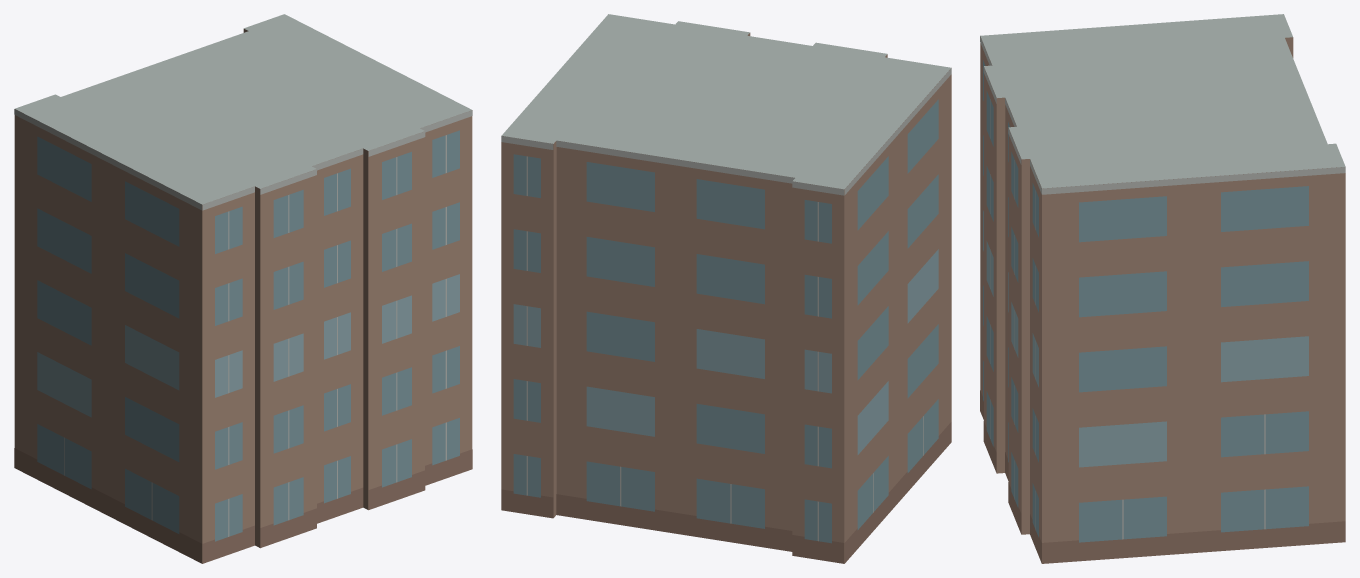
The model's file is survey-upis-32615624.glb.
3 renders of one model, left to right at view 1: azimuth 30°, elevation 25°; view 2: azimuth 150°, elevation 25°; view 3: azimuth 270°, elevation 25°, orthographic. The views are drawn at different scales.
Visible parts, largest first — view 1: survey-upis-32615624.tmp; view 2: survey-upis-32615624.tmp; view 3: survey-upis-32615624.tmp.
Boxes of the visible parts, x1,y1,x2,y2 form: survey-upis-32615624.tmp: (14,14,472,563); survey-upis-32615624.tmp: (501,14,951,563); survey-upis-32615624.tmp: (980,14,1345,563).
Size of the model in its own units: 14.46 by 14.5 by 12.8.
